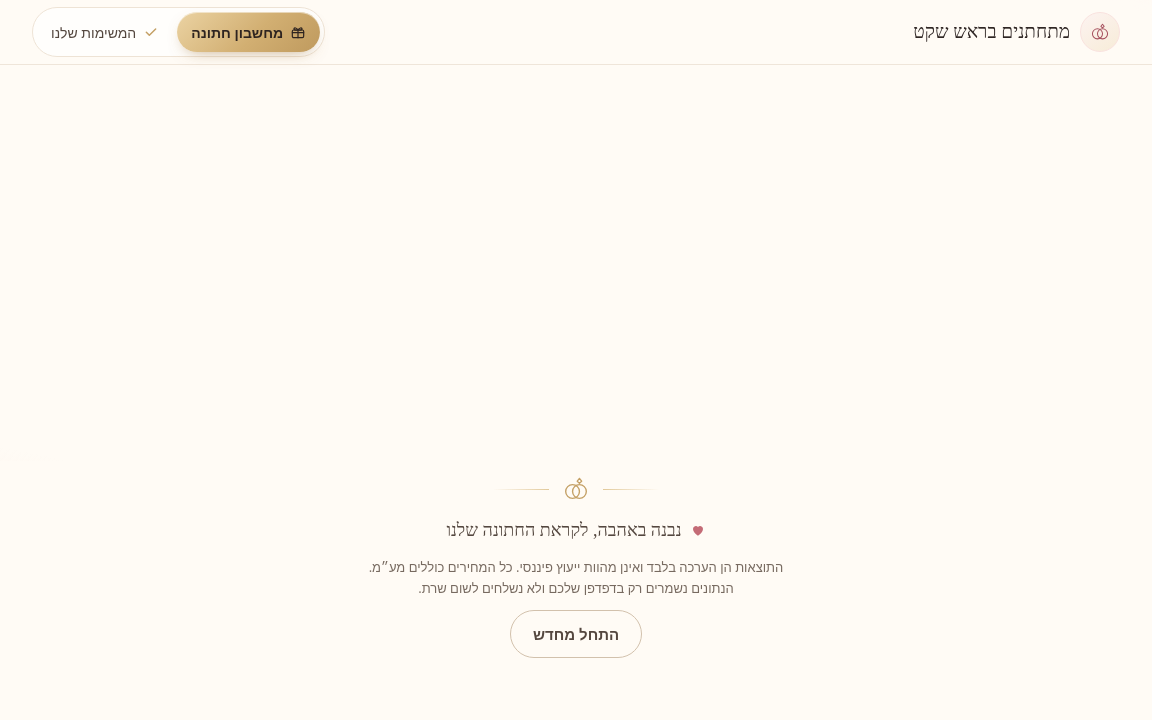
Test case: Start over › clears everything after confirmation and focuses the first field
(page scrolled)
Click the button "התחל מחדש". click: [576, 634]
box: [510, 610, 642, 658]
(page scrolled)
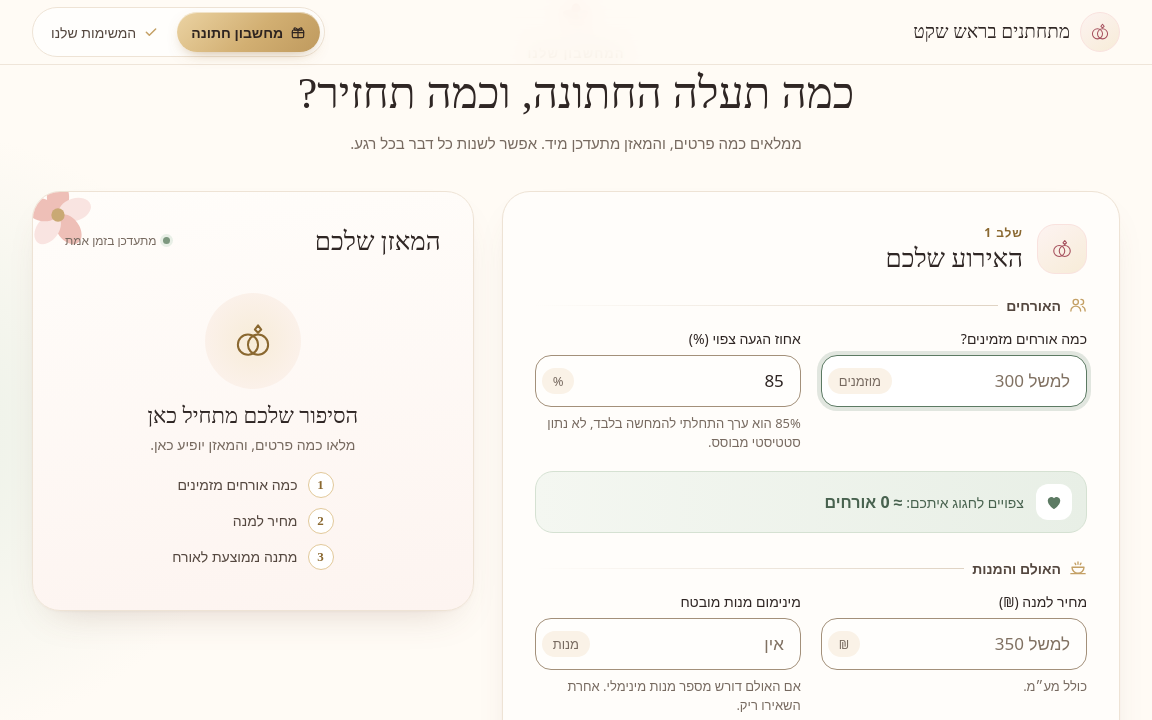
Expected: the field labelled "כמה אורחים מזמינים?" is empty, [892, 358, 1086, 404]
Expected: the field labelled "אחוז הגעה צפוי (%)" holds "85", [574, 358, 800, 404]
Expected: the heading "הסיפור שלכם מתחיל כאן" is shown, [147, 403, 358, 428]
